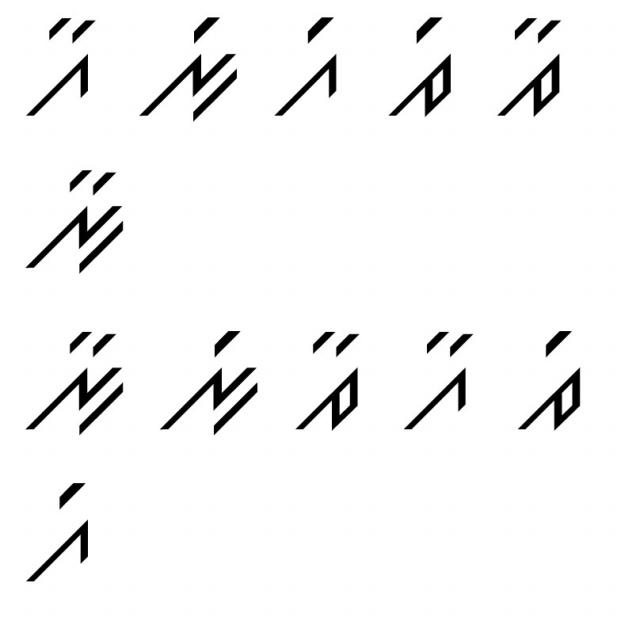gan: (20, 12, 98, 127), (397, 326, 478, 434)
gang: (16, 473, 100, 589), (268, 13, 344, 122)
ngan: (22, 320, 130, 436), (24, 164, 128, 275)
ngang: (133, 10, 245, 122), (157, 318, 262, 436)
tan: (294, 324, 368, 444), (492, 12, 573, 120)
tang: (512, 327, 586, 441), (385, 12, 456, 126)
